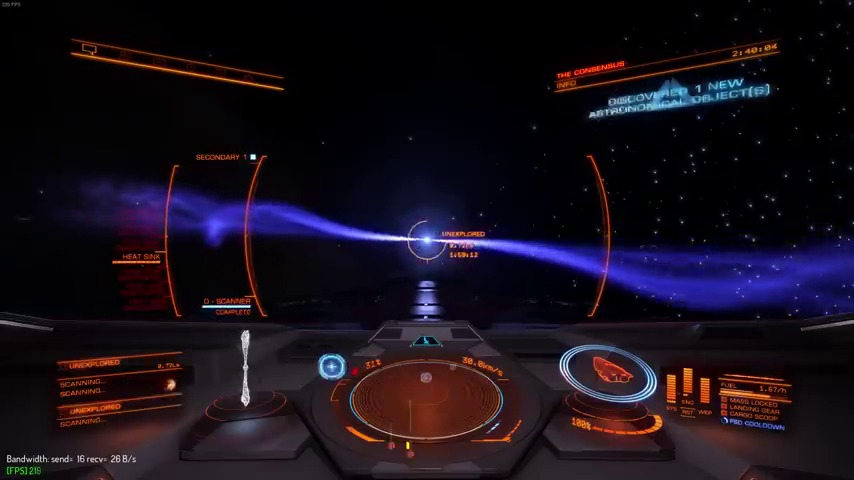jetcone: (453, 226, 849, 320), (120, 188, 400, 258)
